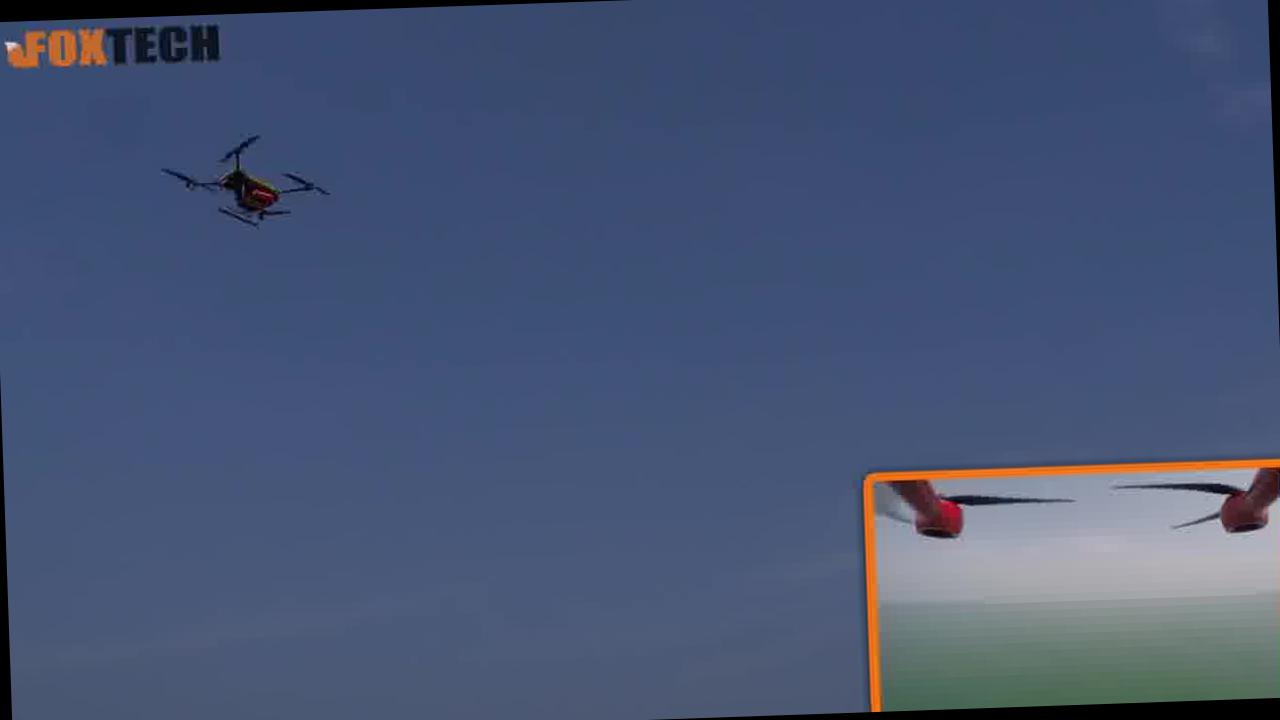drone: (153, 132, 338, 236)
